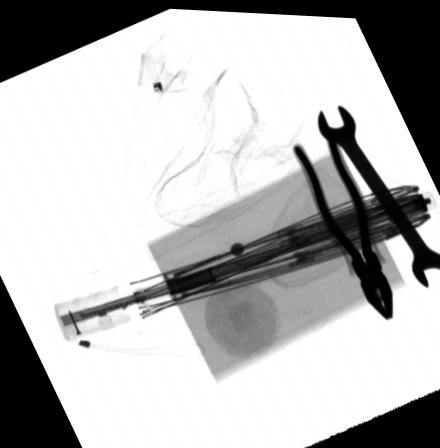Pliers: (292, 122, 394, 316)
Wrench: (315, 98, 440, 283)
